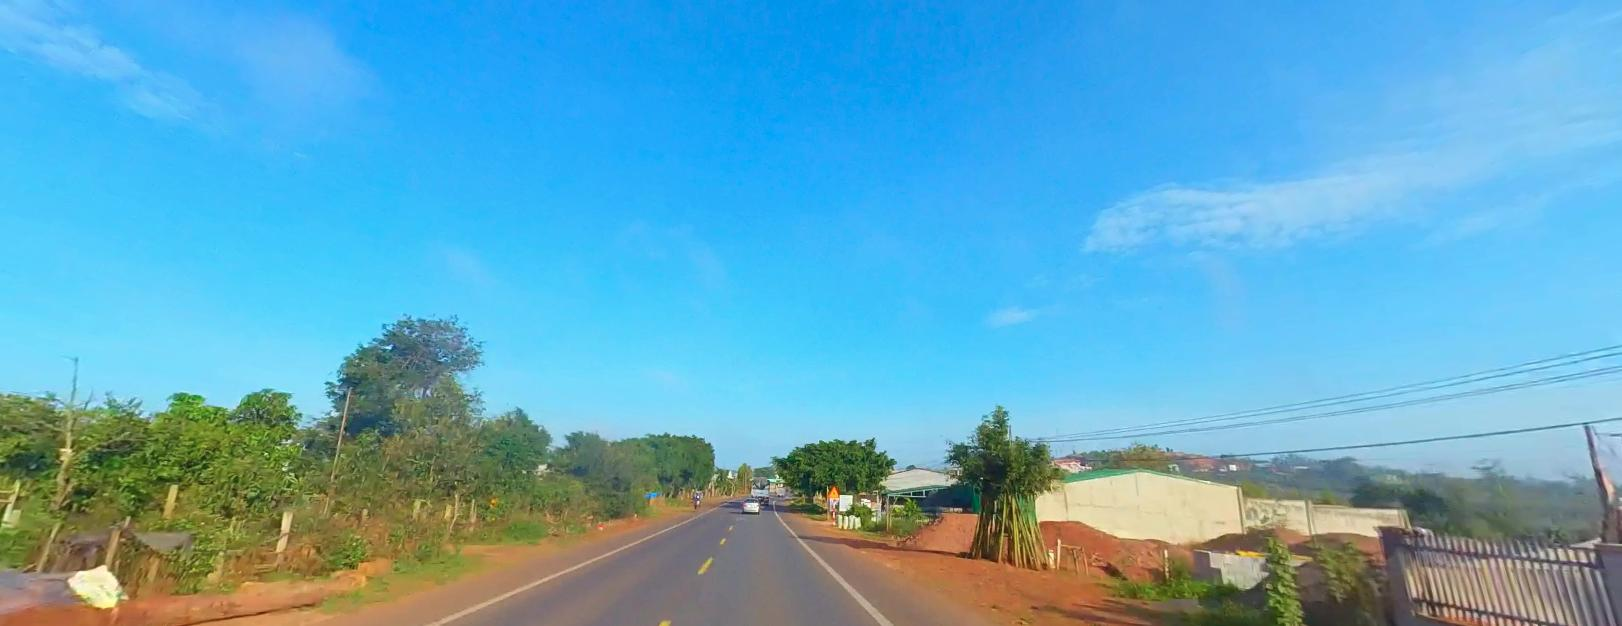Nguy hiem: (827, 485, 839, 497)
